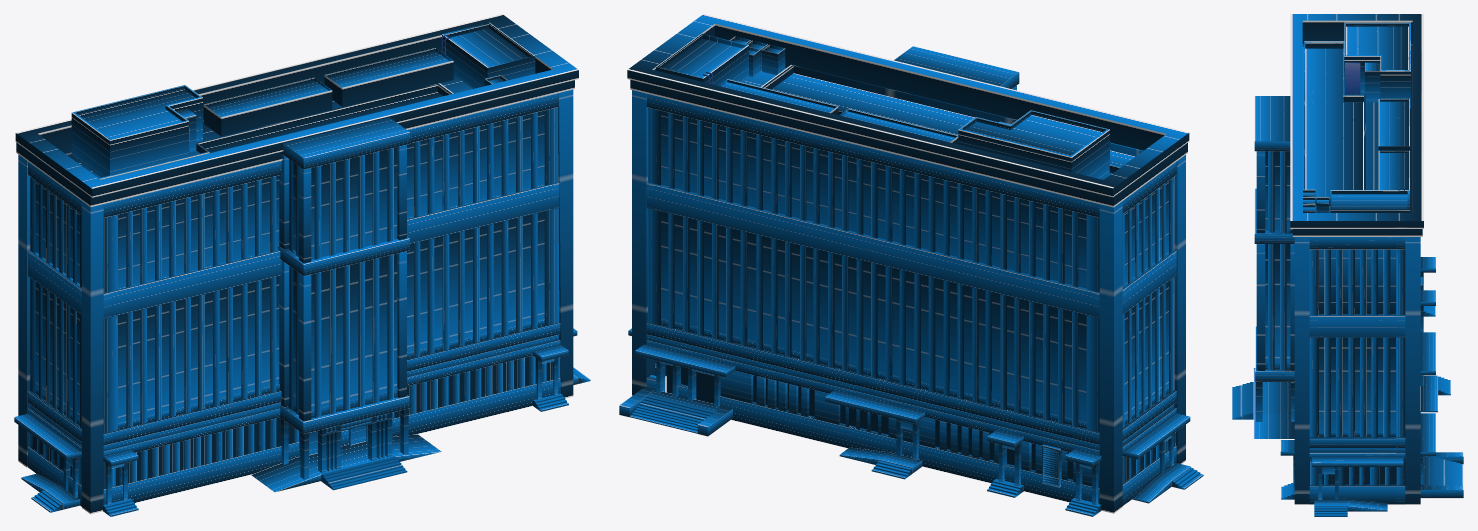
The model's file is khbgl.gltf.
The picture shows the model from 3 angles, left to right: view 1: azimuth 30°, elevation 25°; view 2: azimuth 150°, elevation 25°; view 3: azimuth 270°, elevation 25°; orthographic projection. The views are drawn at different scales.
Size of the model in its own units: 3616 by 2190 by 1537.
Materials: 2 (2 with a texture image).
